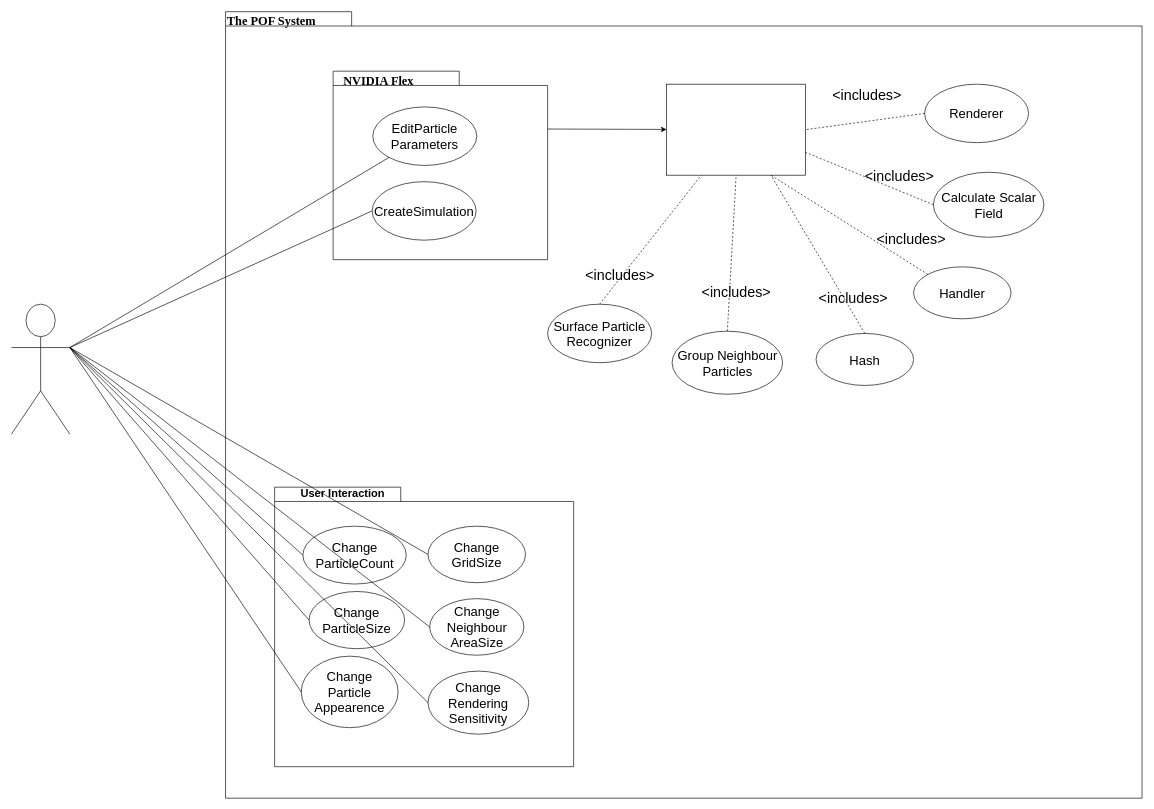
This 1154x809 diagram has some shape labels left out. Each missing label, with the centre of its shape:
"Particle Surface Reconstructor" goes at pixel 736 129.
"User" goes at pixel 40 369.
